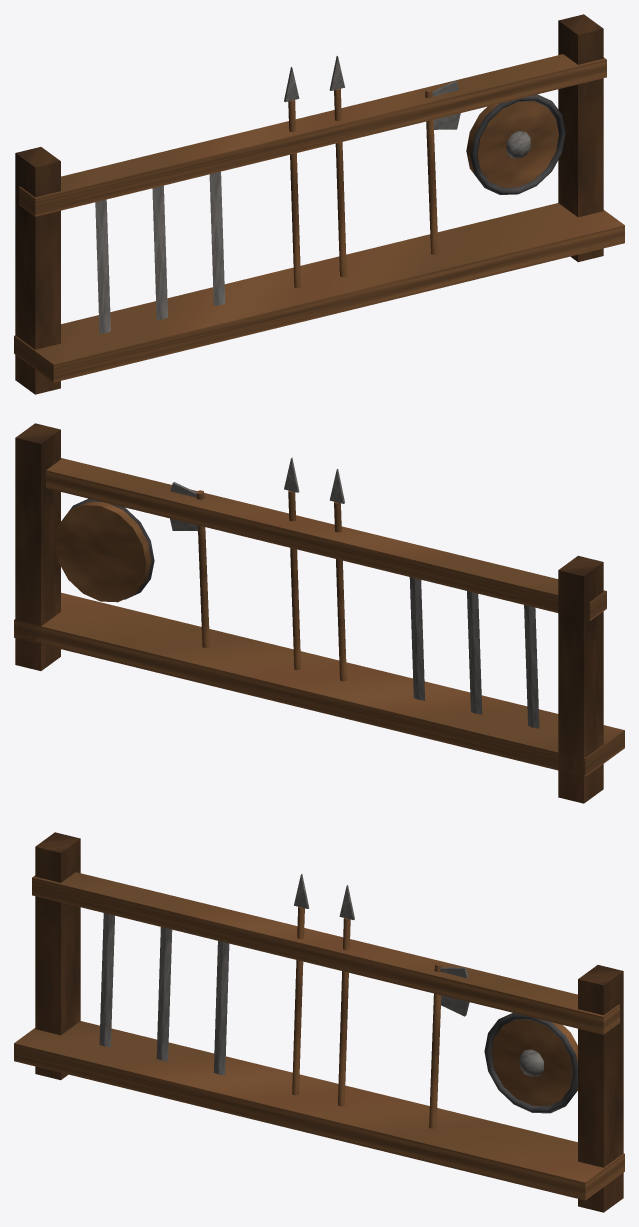
The model's file is weapons_rack.obj.
3 views of the same model, one above another, from view 1: azimuth 30°, elevation 25°; view 2: azimuth 150°, elevation 25°; view 3: azimuth 330°, elevation 25° (orthographic).
Size of the model in its own units: 20 by 8.7 by 2.4.
Materials: 1 (1 with a texture image).
